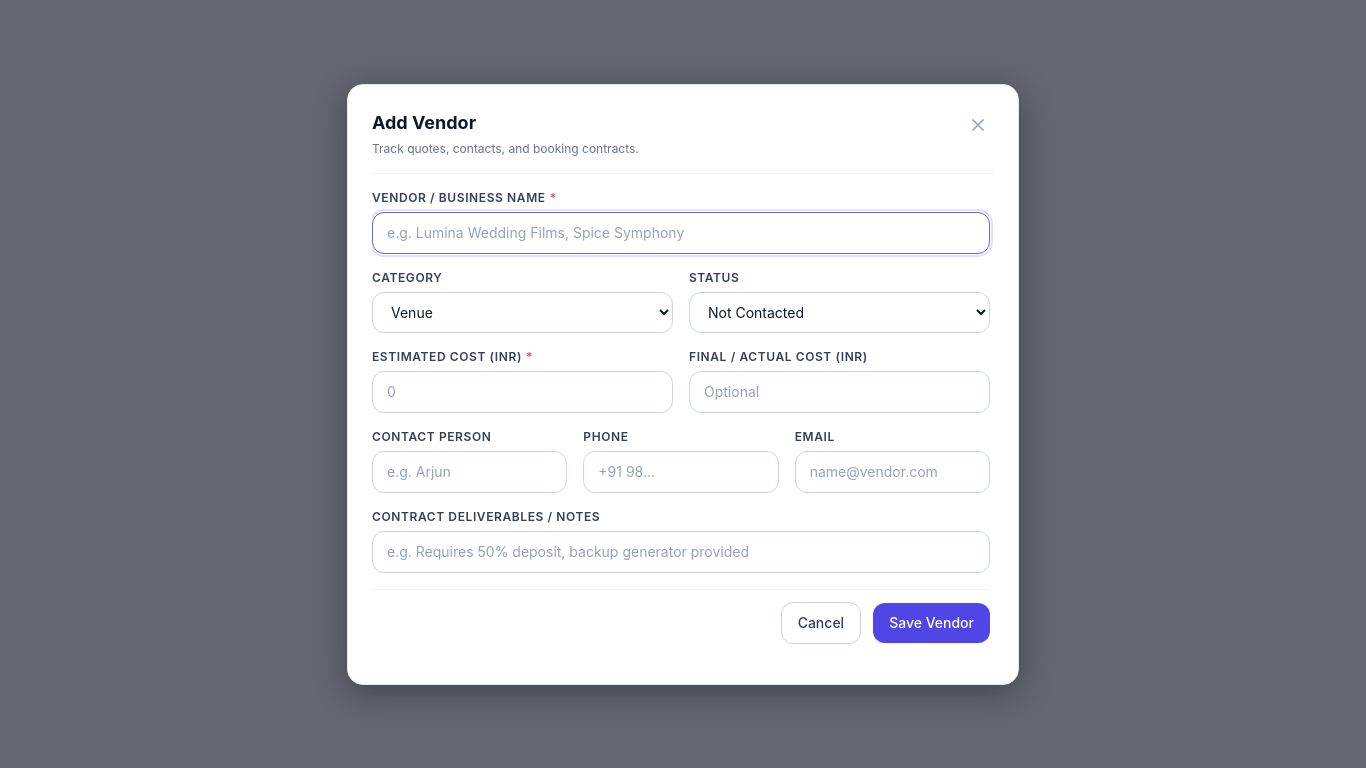
it: AddVendorModal component › shows error when vendor name is missing
Click the button "Save Vendor": (932, 622) left=873, top=602, right=990, bottom=642
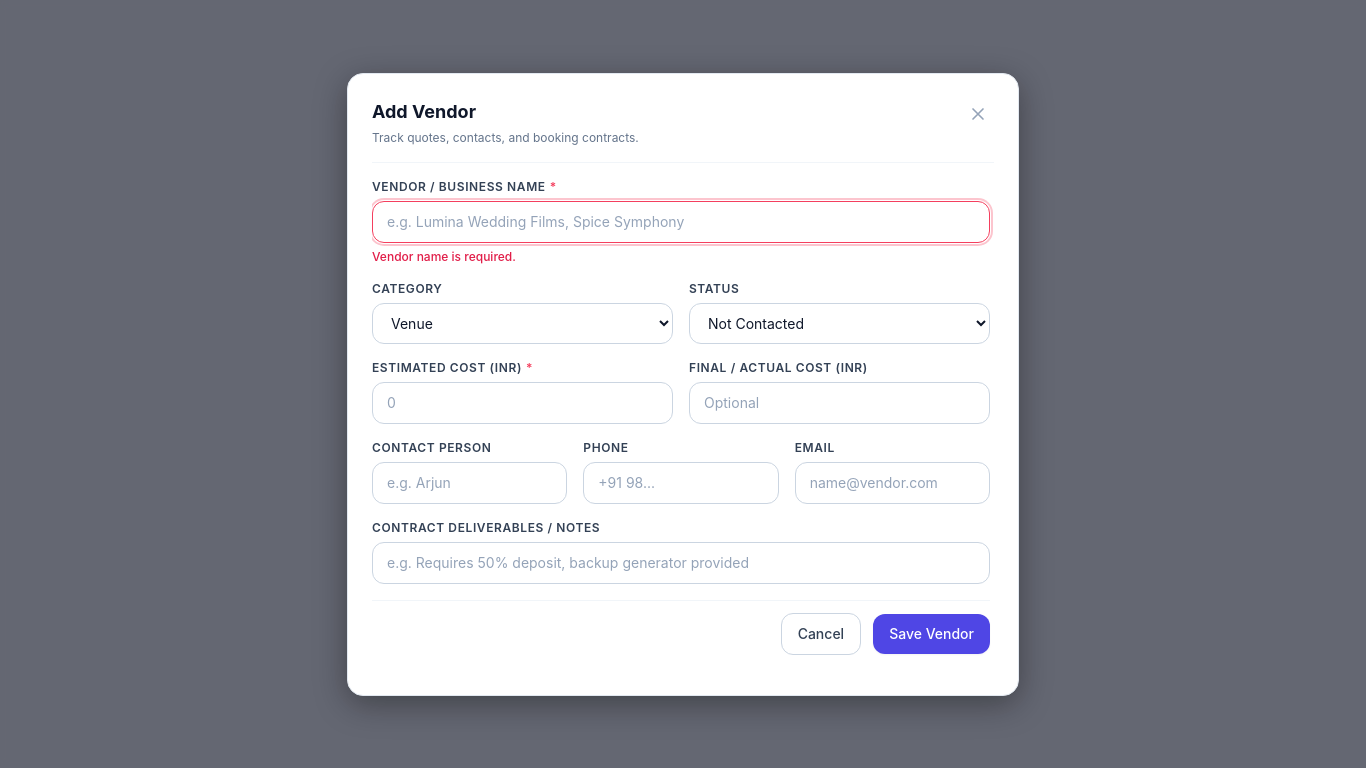
Check: the text "Vendor name is required." is shown, box left=372, top=248, right=516, bottom=264
